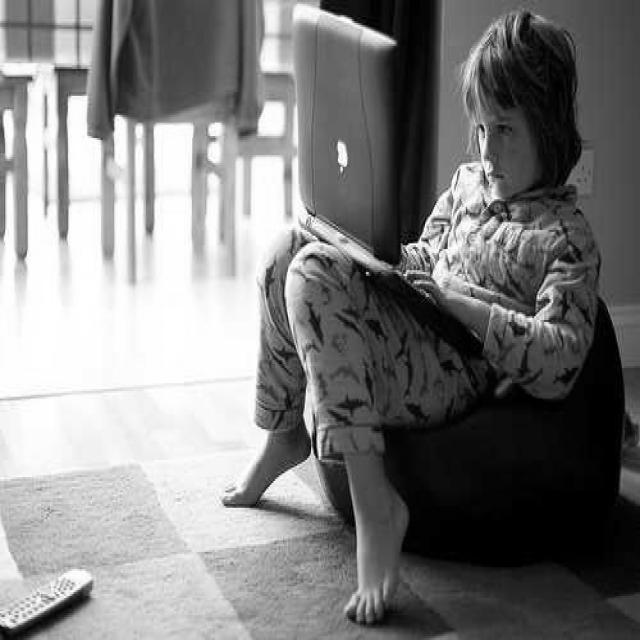laptop: (292, 14, 486, 364)
